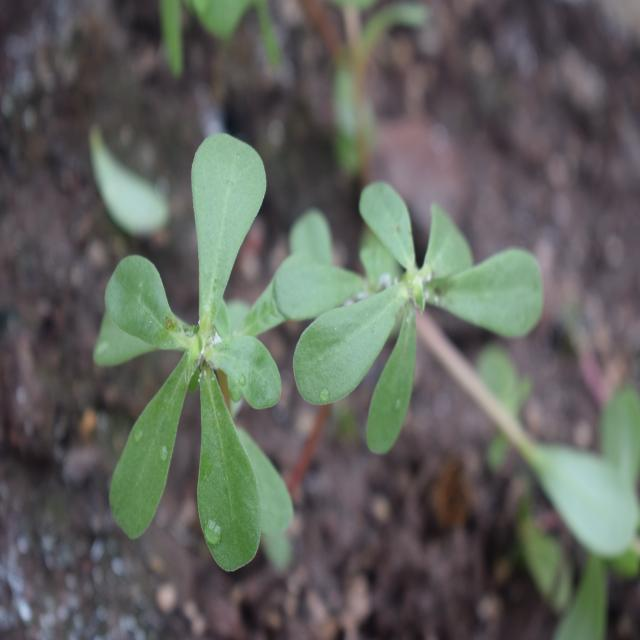purslane: (64, 135, 542, 550)
